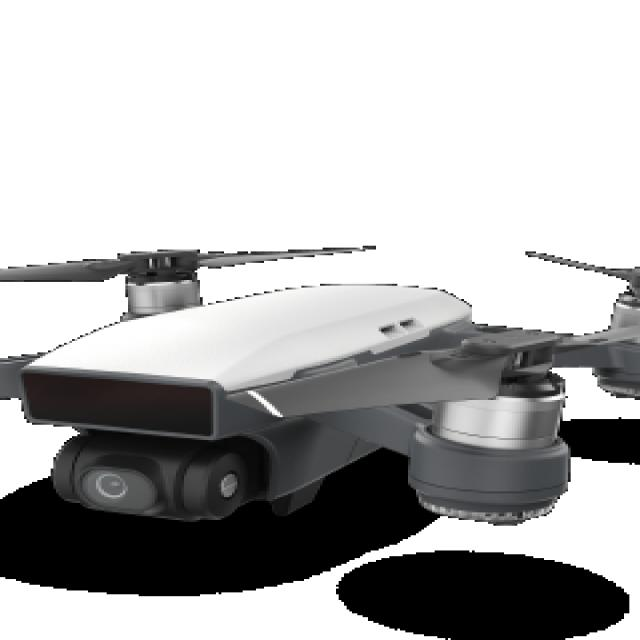drone: (0, 240, 640, 518)
